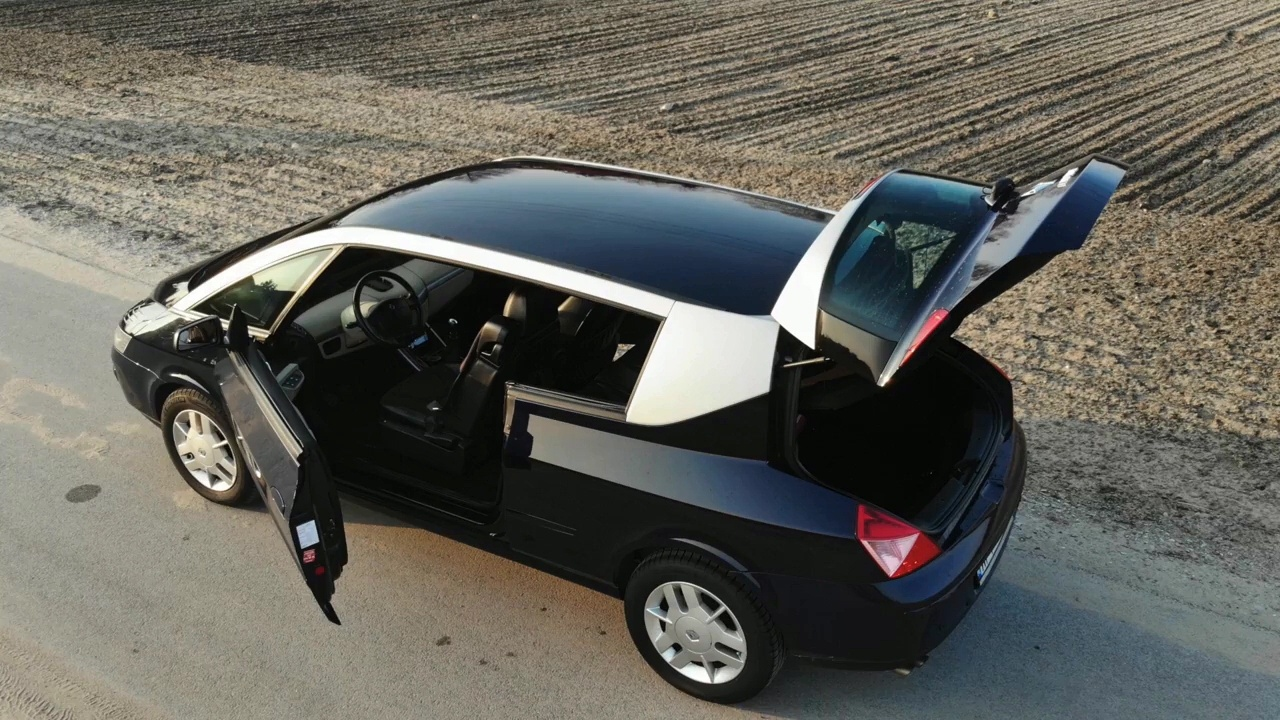araba: (105, 151, 1034, 705)
